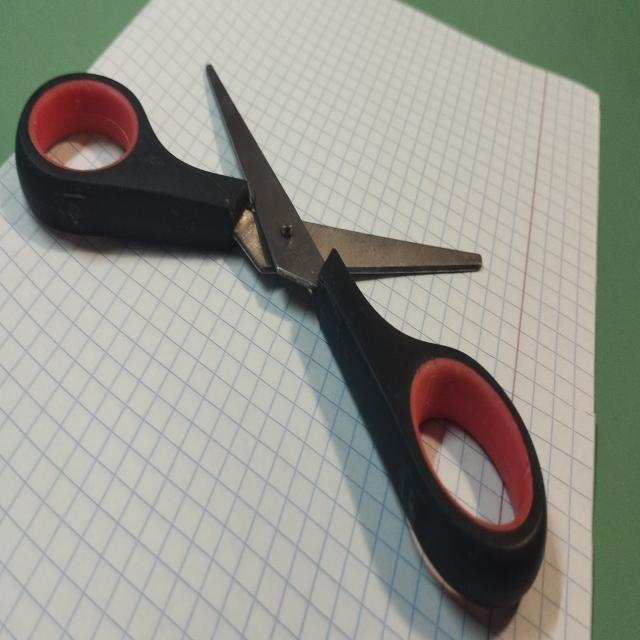tesoura: (9, 49, 550, 621)
